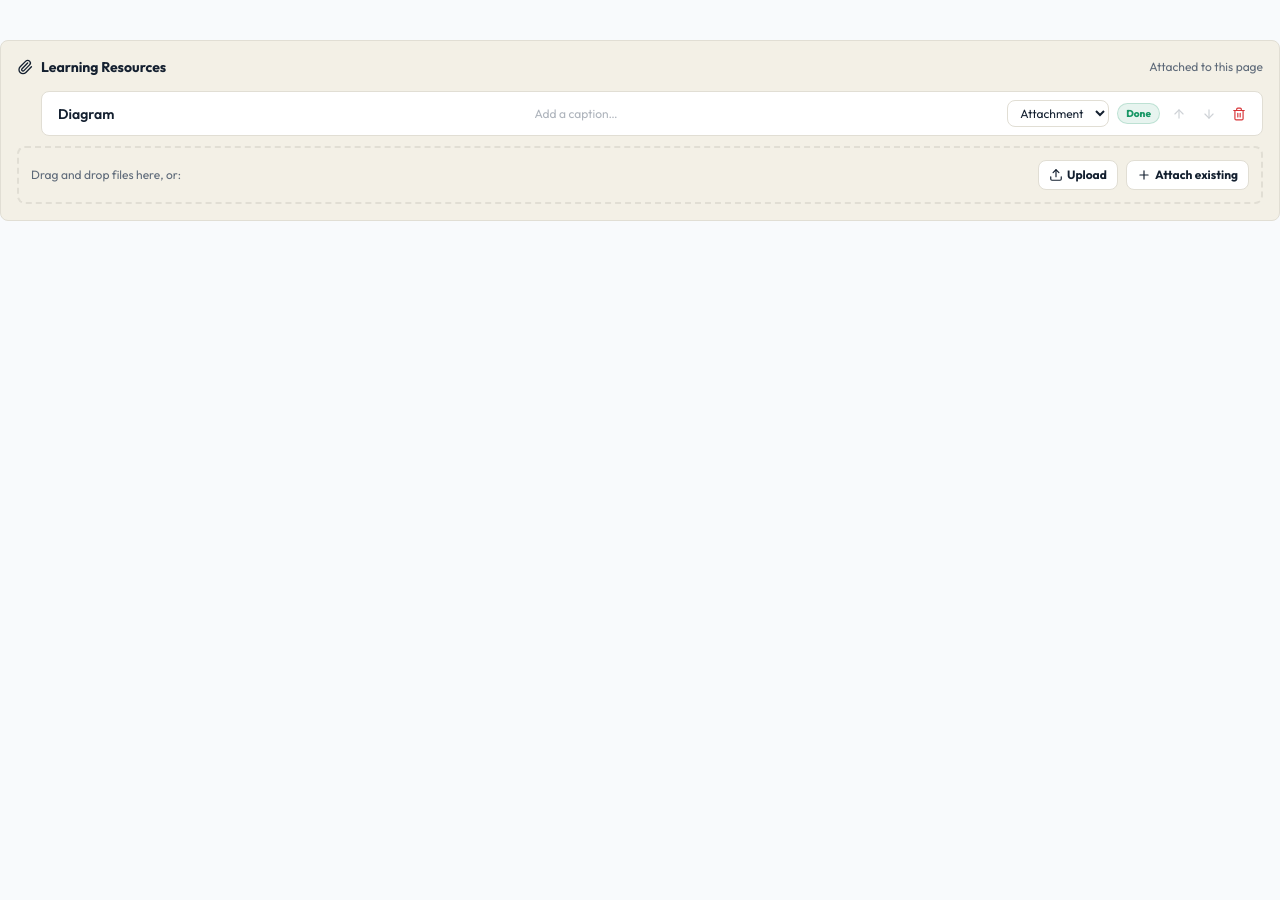
LearningResourcesBlock NodeView › delete-in-use conflict (Story 8.3) › shows the two-action confirm flow naming the referencing page when the backend reports a conflict (409)
Expected: the text "Learning Resources" is shown, [41,57,166,77]
Click the button named "Remove Diagram".
click(1239, 114)  # box [1228,102,1250,124]
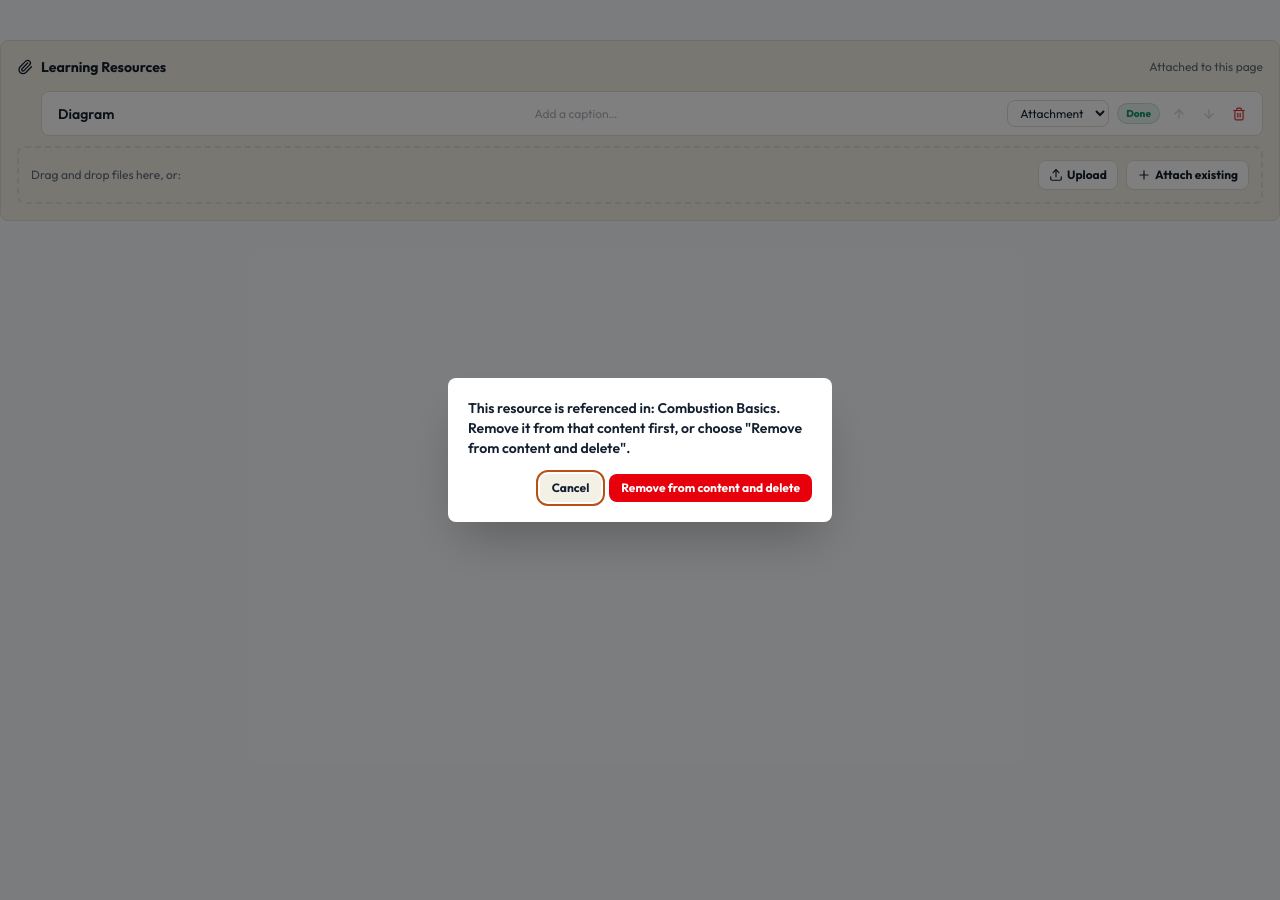
Expected: the field showing "Diagram" is shown, [54,104,523,124]
Expected: the text "Combustion Basics" is shown, [468,399,802,457]
Expected: the button "Remove from content and delete" is shown, [609,474,812,502]
